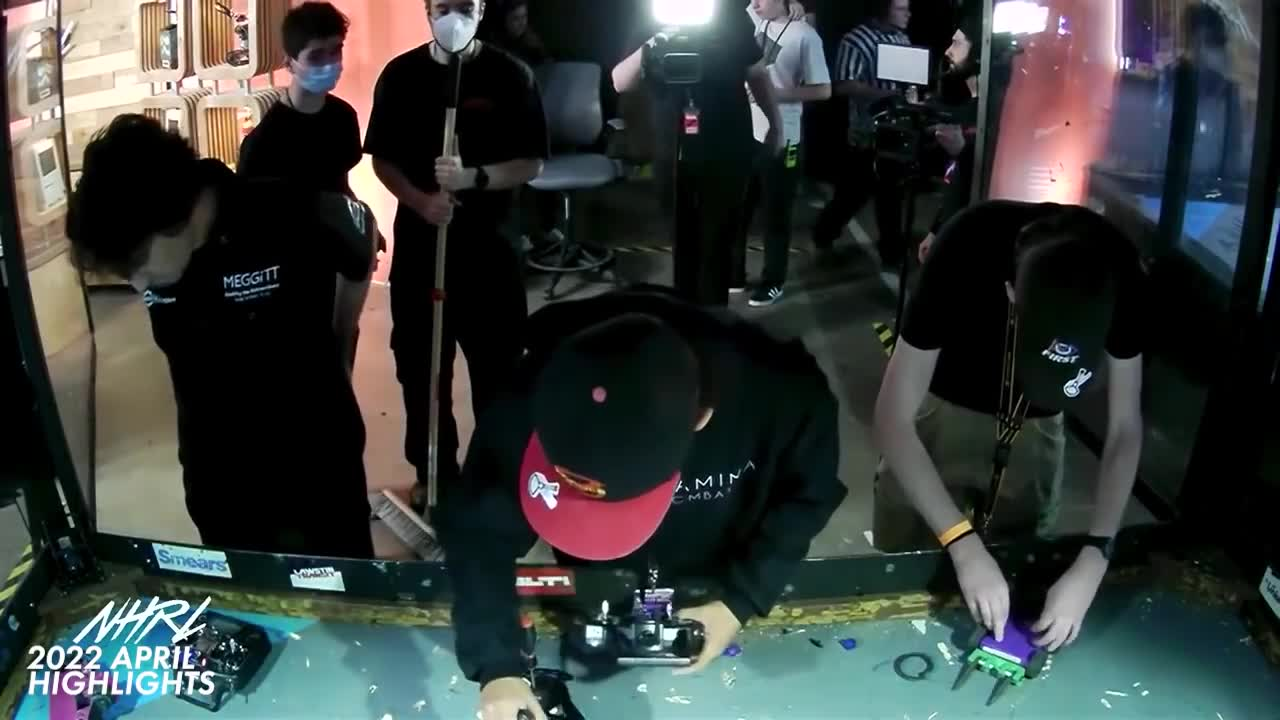belt: (892, 654, 933, 683)
minibot: (950, 624, 1052, 704)
